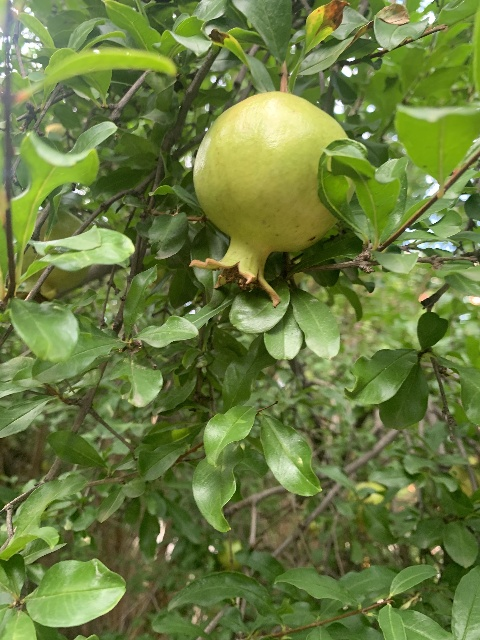mid-growth: (188, 91, 355, 308), (21, 210, 90, 304)
